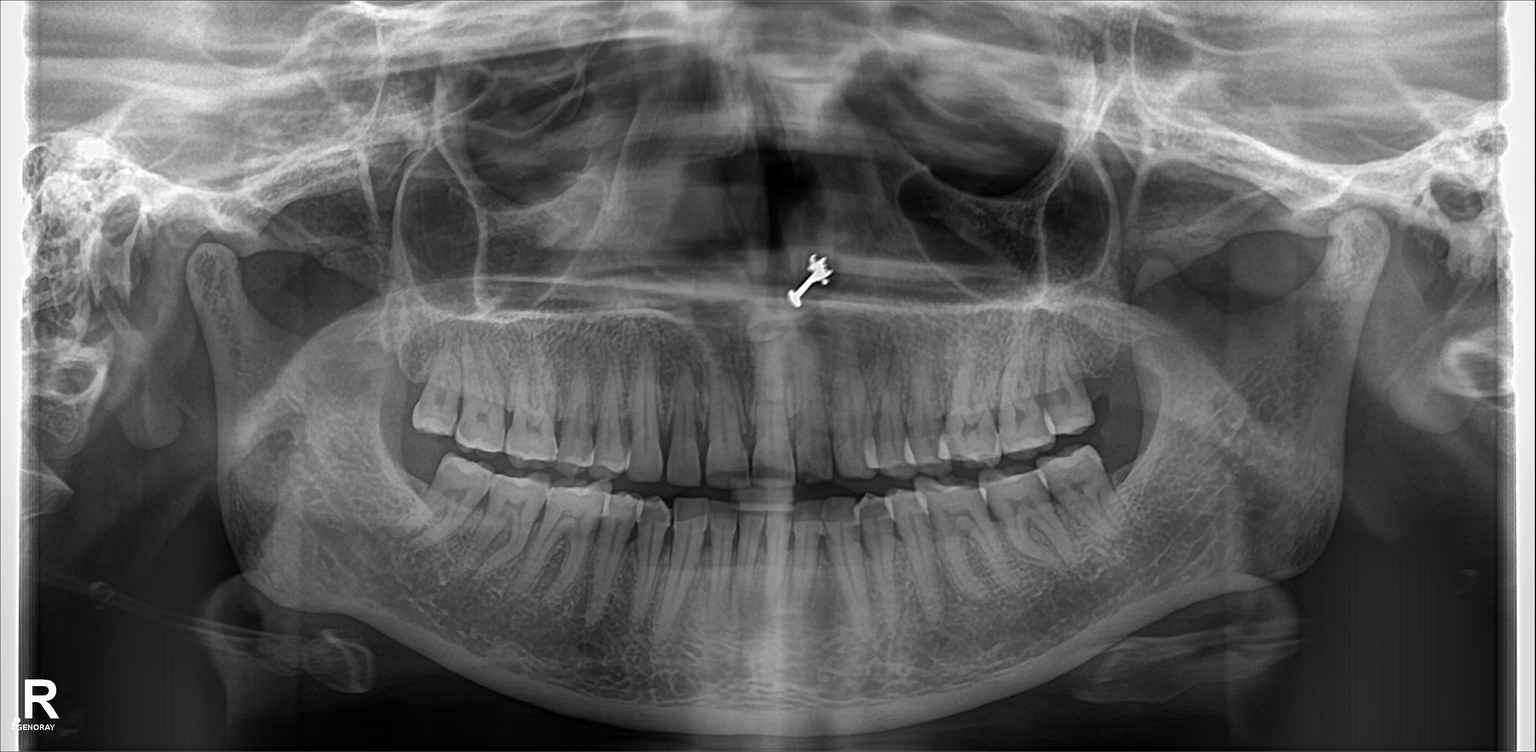Dental Caries: (855, 501, 895, 524)
Missing Tooth: (1082, 329, 1140, 425), (387, 350, 425, 417), (402, 441, 435, 518), (1114, 437, 1149, 506)
